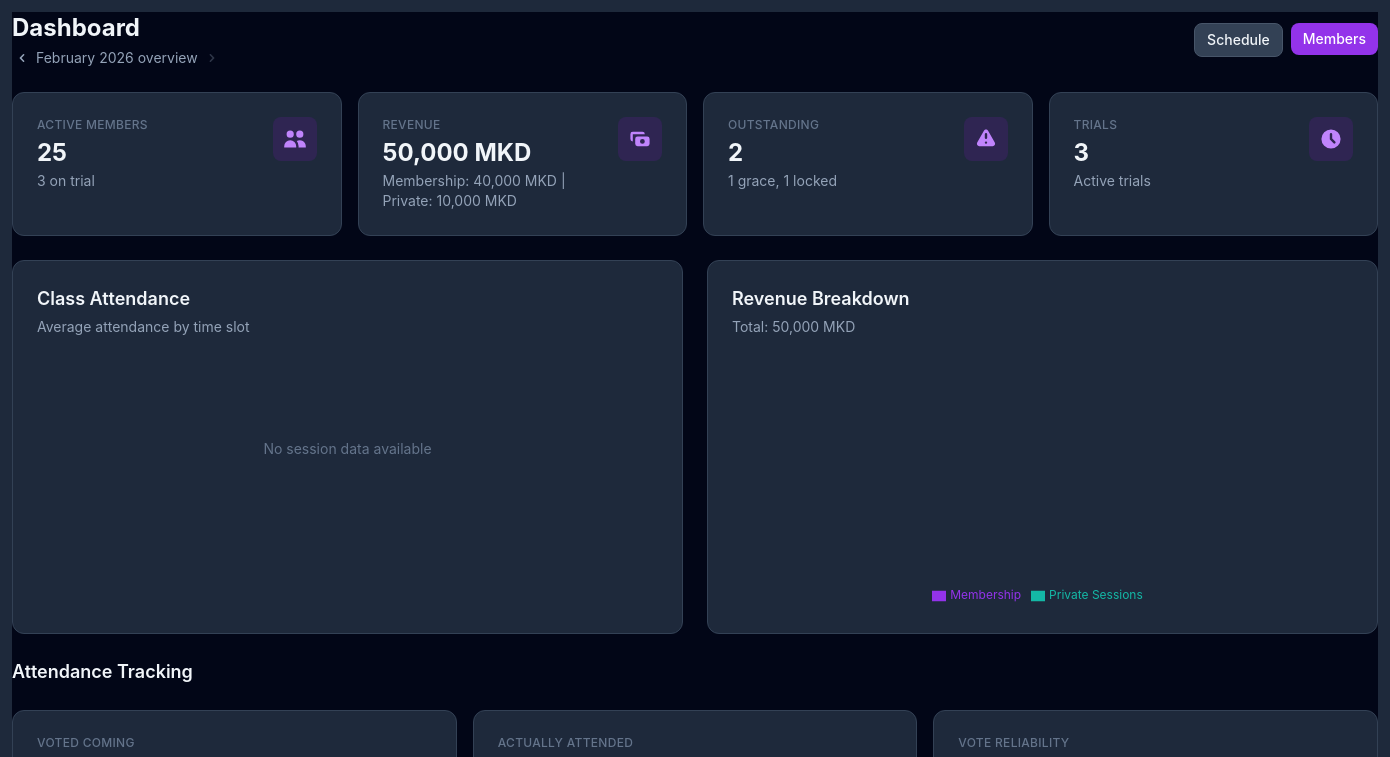
it: DashboardClient month navigator › updates Active Members value after fetching previous month
The width and height of the screenshot is (1390, 757).
Expected: the text "25" is shown, [37, 138, 67, 167]
What coordinates should you click on to do the following:
click the button named "Previous month"
I would click on:
 (22, 58)
Its box is [12, 48, 32, 68].
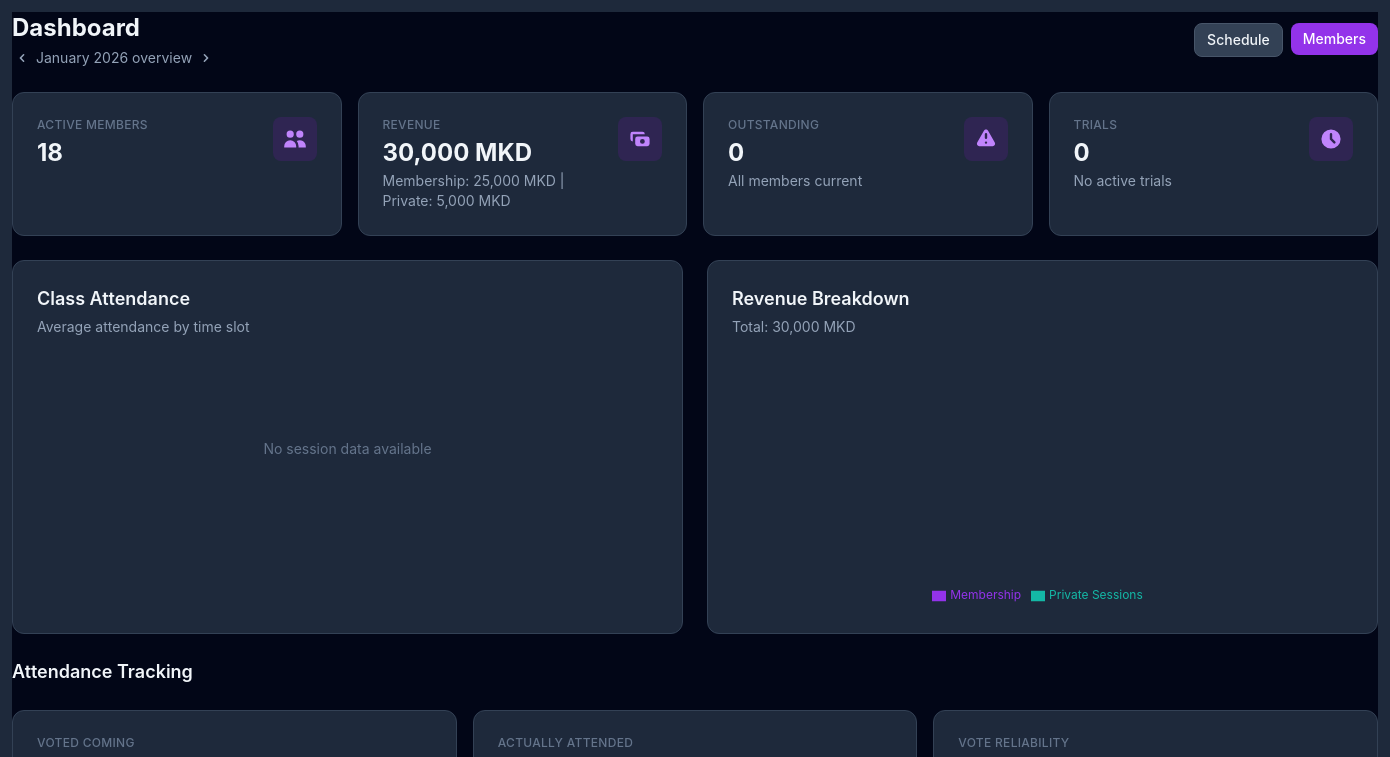
Result: the text "18" is shown at [37, 138, 63, 167]
